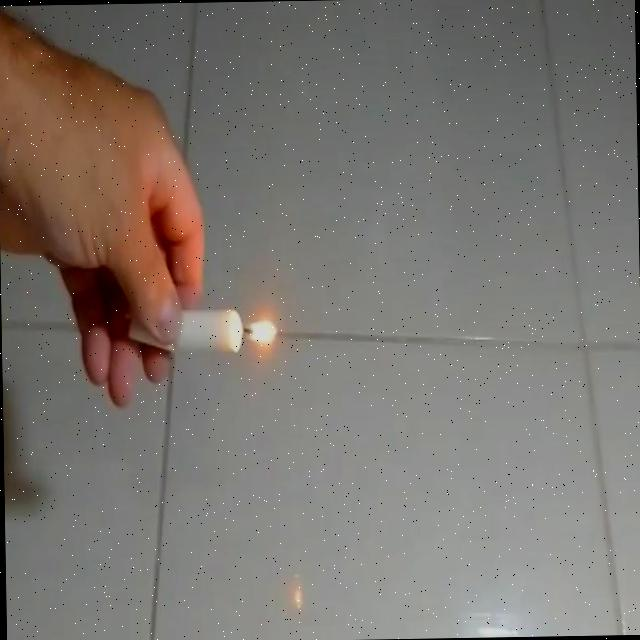fire: (241, 313, 279, 351)
